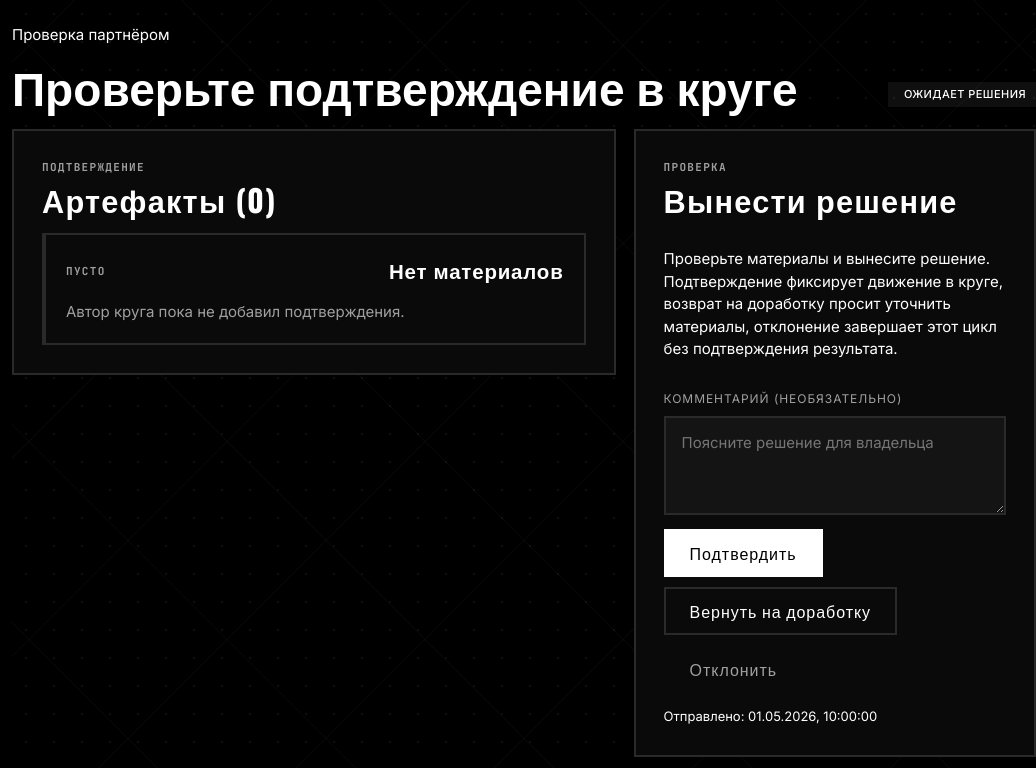
Test: ApprovalPanel › shows approved state after approve click
Click the button "Подтвердить" at point(743, 554), box 664,530 -> 823,578
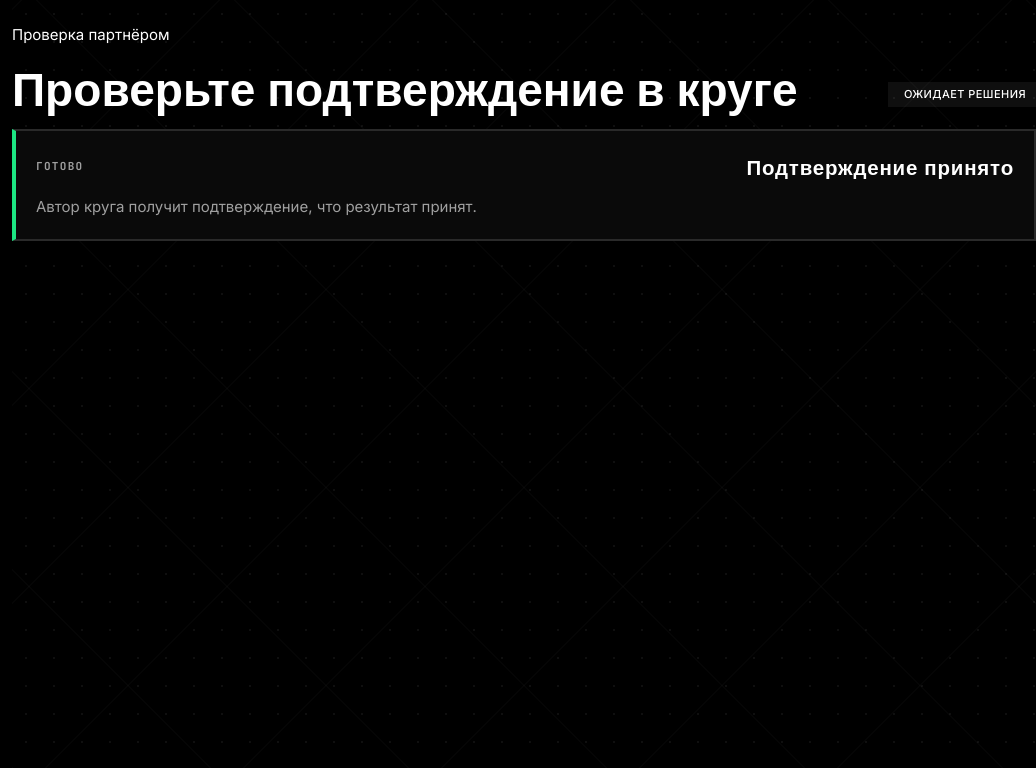
Result: the heading "Подтверждение принято" is shown at 746,151 -> 1014,181
